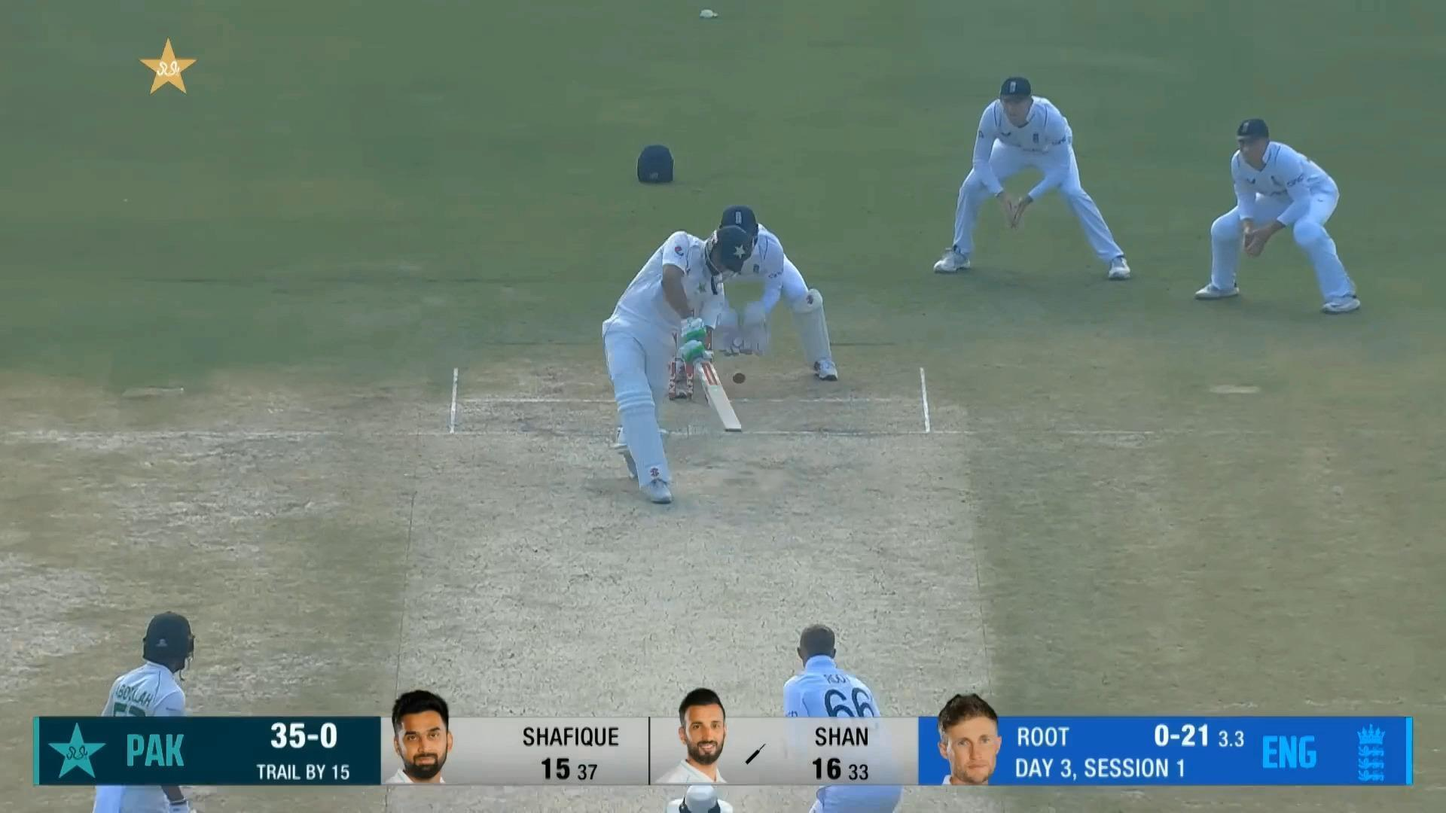BM 1: (602, 226, 754, 504)
BO: (780, 622, 909, 813)
